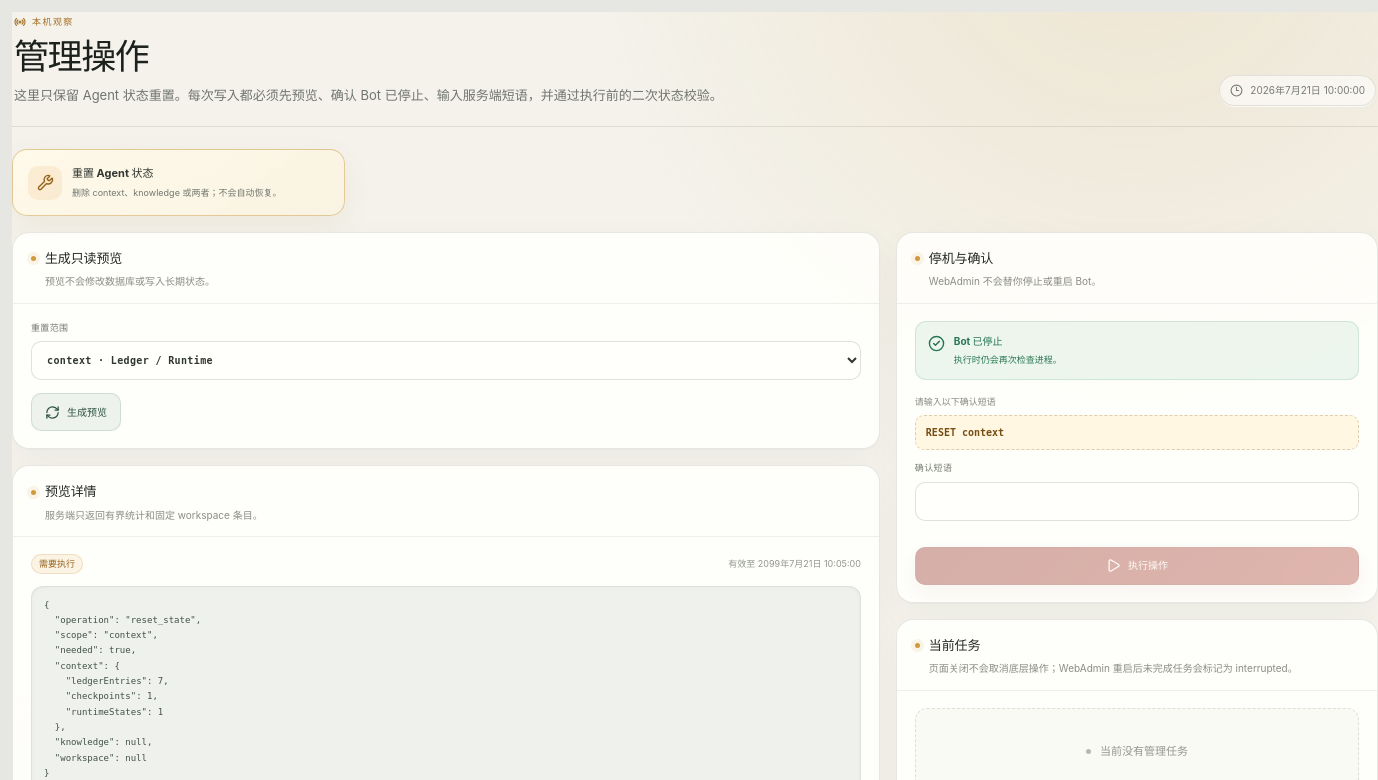
Test: OperationsView › invalidates an old preview when the reset scope changes
Type "RESET context" into the field labelled "确认短语" at [1137, 501], box [915,482,1359,521]
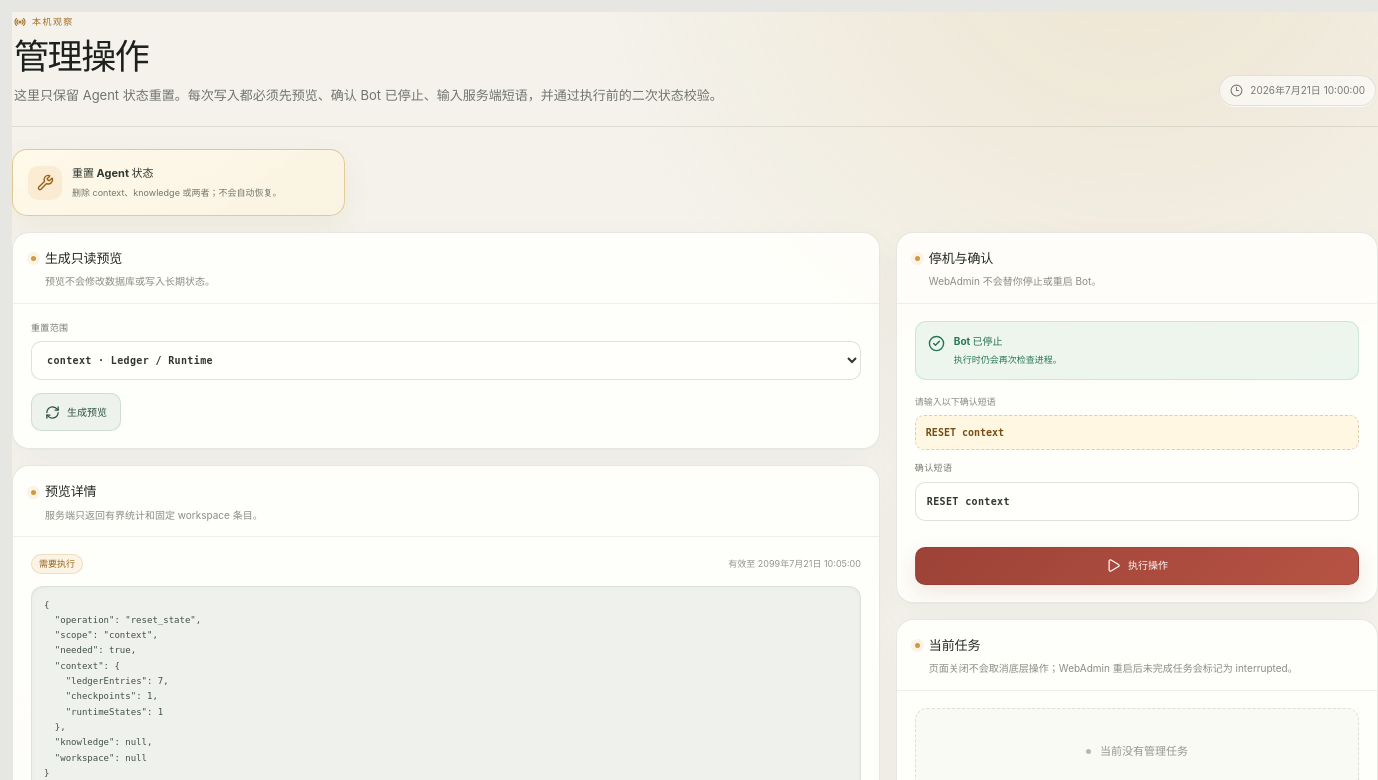
Select "all · context + 全部 Agent workspace" in the dropdown labelled "重置范围" at [446, 361], box [31,341,861,380]
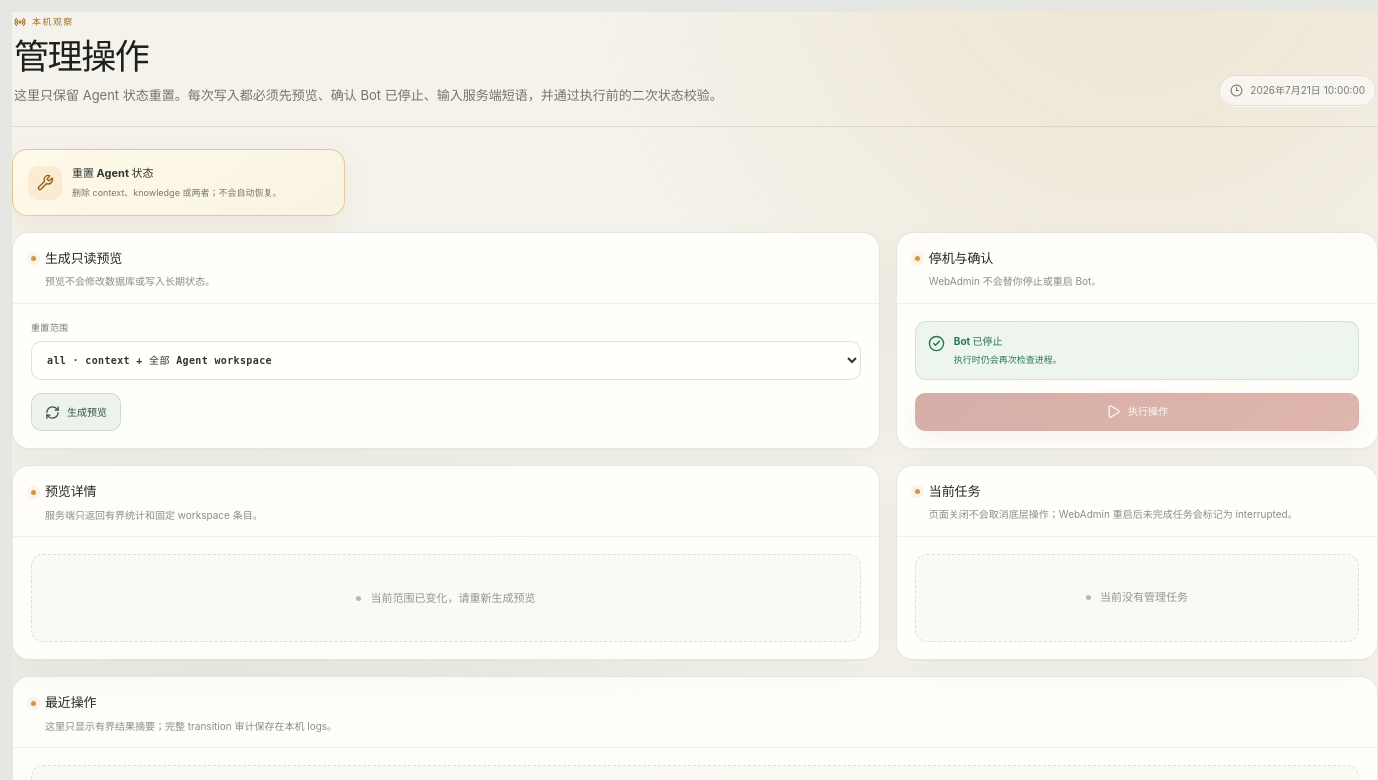
Now the text "当前范围已变化，请重新生成预览" is shown, box [31,554,861,642]
